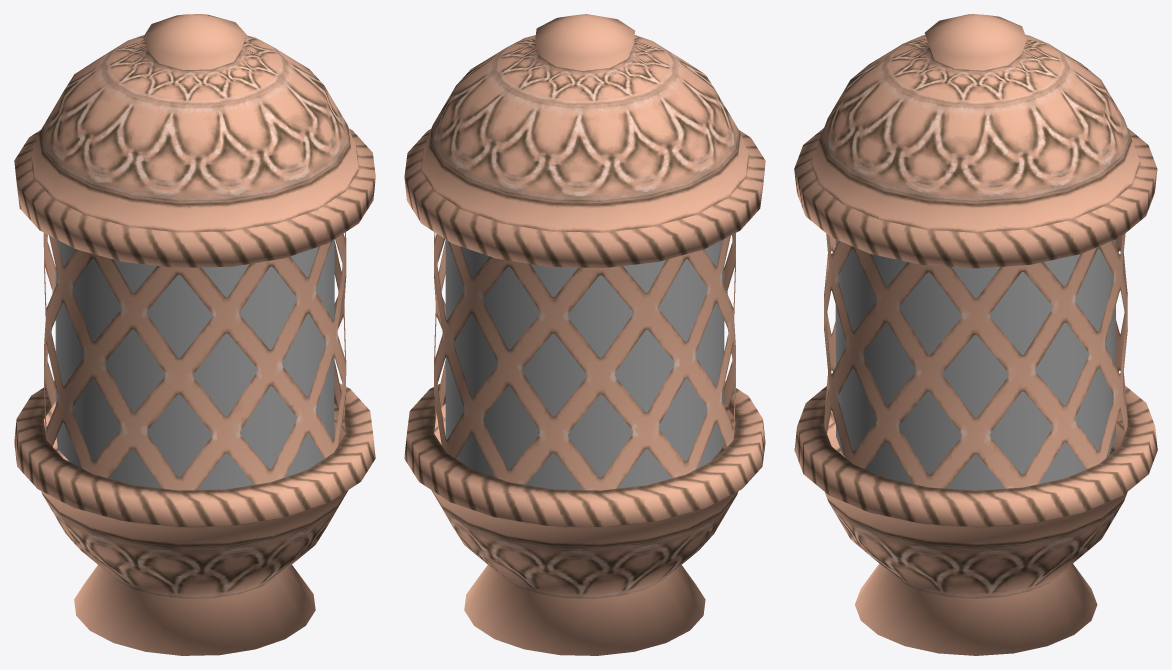
Rendered from Lantern_Standing.fbx.
3 views of the same model, side by side, from view 1: azimuth 30°, elevation 25°; view 2: azimuth 150°, elevation 25°; view 3: azimuth 270°, elevation 25° (orthographic).
Parts seen in each view (by area): view 1: lantern_2; view 2: lantern_2; view 3: lantern_2.
Part boxes in pixels (box(x1,y1,x2,y2)): lantern_2: box(14, 14, 375, 655); lantern_2: box(404, 14, 765, 655); lantern_2: box(794, 14, 1157, 655).
Size of the model in its own units: 20.25 by 36.18 by 20.27.
